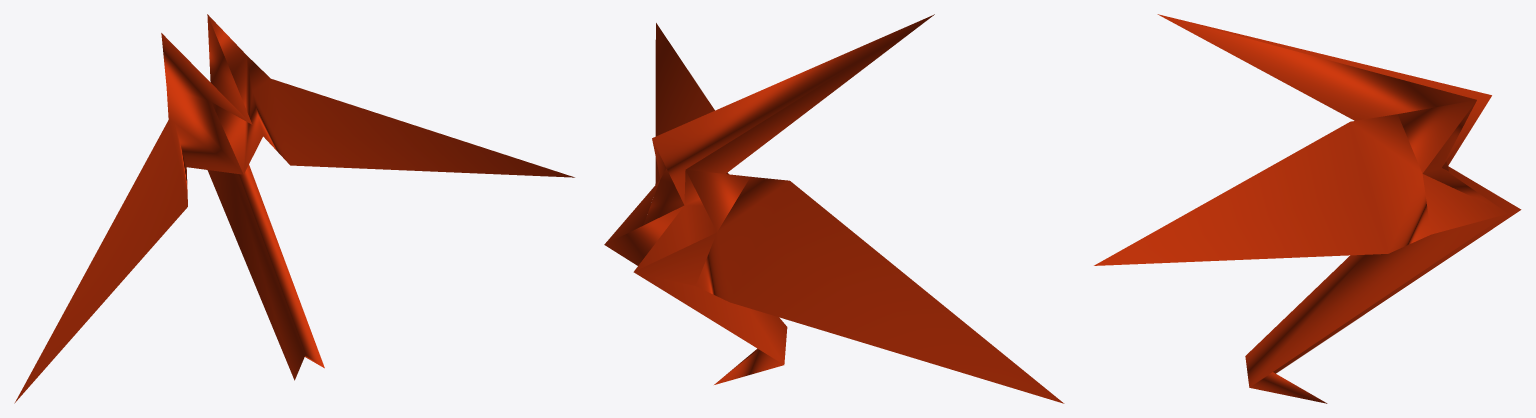
Rendered from crane.obj.
3 renders of one model, left to right at view 1: azimuth 30°, elevation 25°; view 2: azimuth 150°, elevation 25°; view 3: azimuth 270°, elevation 25°, orthographic. The views are drawn at different scales.
Visible parts, largest first — view 1: crane; view 2: crane; view 3: crane.
Part boxes in pixels (x1,y1,x2,y2): crane: (14,14,574,403); crane: (604,14,1064,403); crane: (1094,14,1521,403).
Size of the model in its own units: 40.9 by 26.25 by 31.14.
